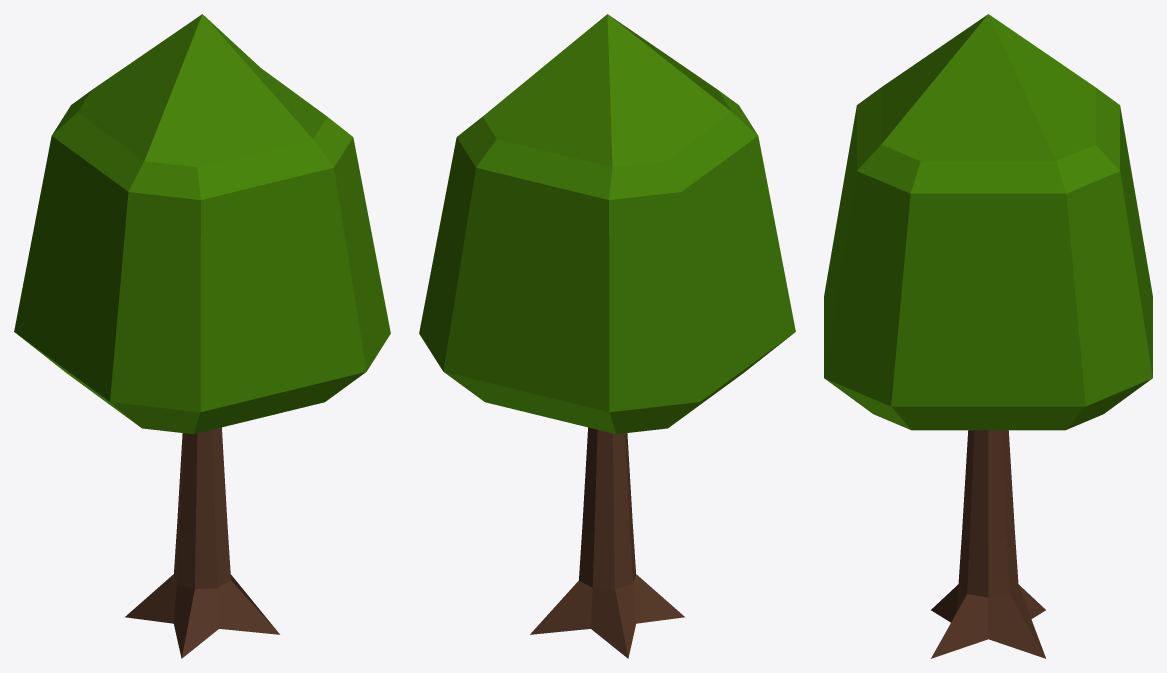
Rendered from tree_02.glb.
The picture shows the model from 3 angles, left to right: view 1: azimuth 30°, elevation 25°; view 2: azimuth 150°, elevation 25°; view 3: azimuth 270°, elevation 25°; orthographic projection.
Visible parts, largest first — view 1: Tree02; view 2: Tree02; view 3: Tree02.
Part boxes in pixels (left/top/right/bottom): Tree02: left=14, top=14, right=390, bottom=658; Tree02: left=419, top=14, right=795, bottom=658; Tree02: left=824, top=14, right=1152, bottom=658.
Size of the model in its own units: 4.88 by 10.17 by 4.88.
Materials: 1 (1 with a texture image).
